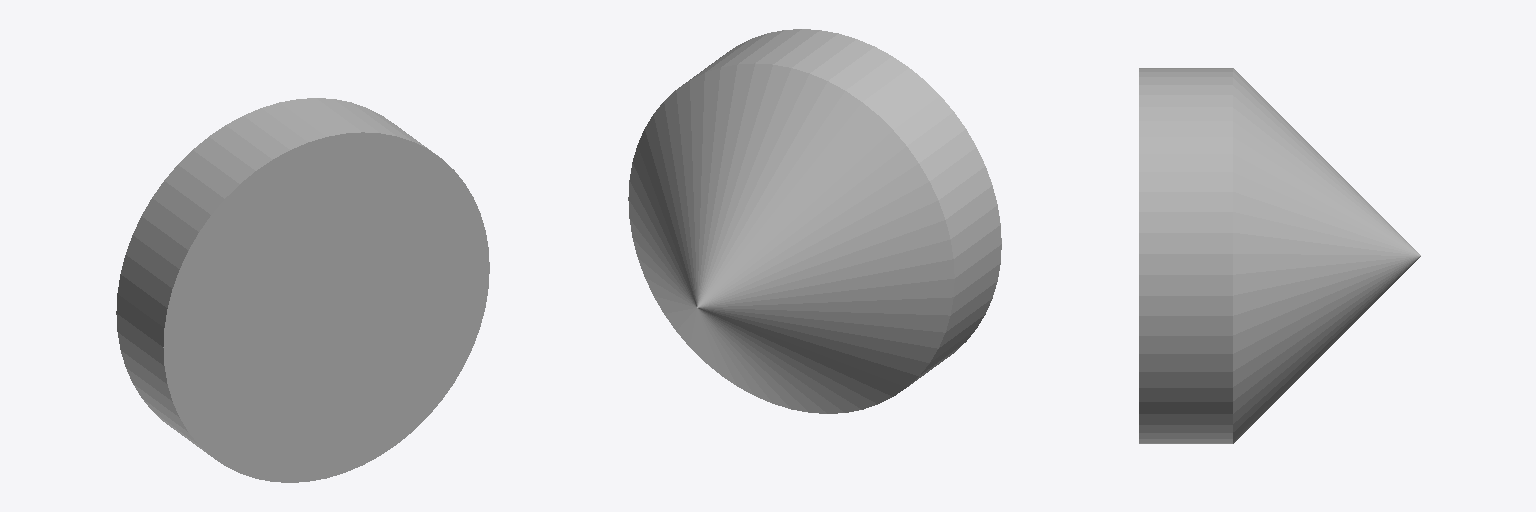
The model's file is extruderHead.obj.
3 renders of one model, left to right at view 1: azimuth 30°, elevation 25°; view 2: azimuth 150°, elevation 25°; view 3: azimuth 270°, elevation 25°, orthographic.
Parts seen in each view (by area): view 1: Solid3; view 2: Solid3; view 3: Solid3.
Part boxes in pixels (x1,y1,x2,y2): Solid3: (116,98,489,482); Solid3: (628,29,1001,413); Solid3: (1139,68,1420,443).
Bounding box in the file's own units: 40 × 40 × 30.